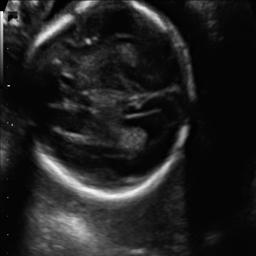normal: (22, 0, 192, 204)
